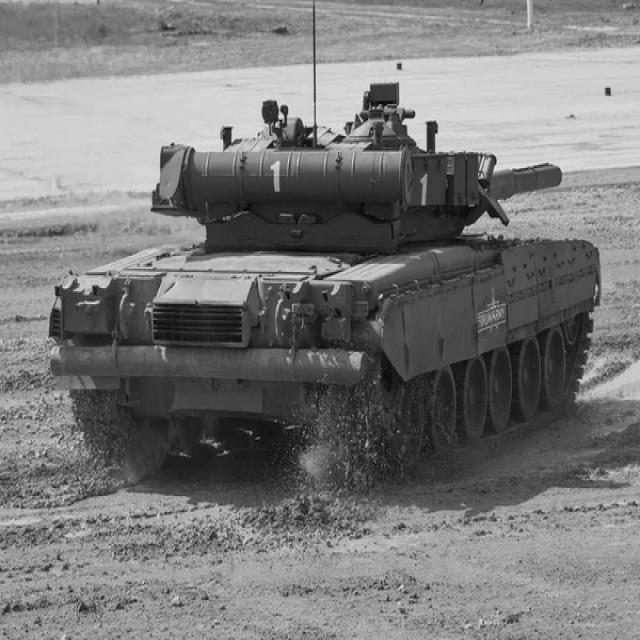Tank: (45, 61, 613, 478)
